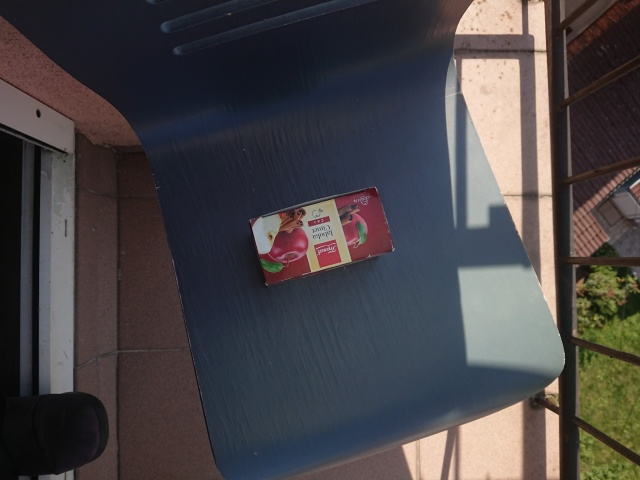Franck Apple Cinnamon Tea 60g: (246, 184, 397, 288)
